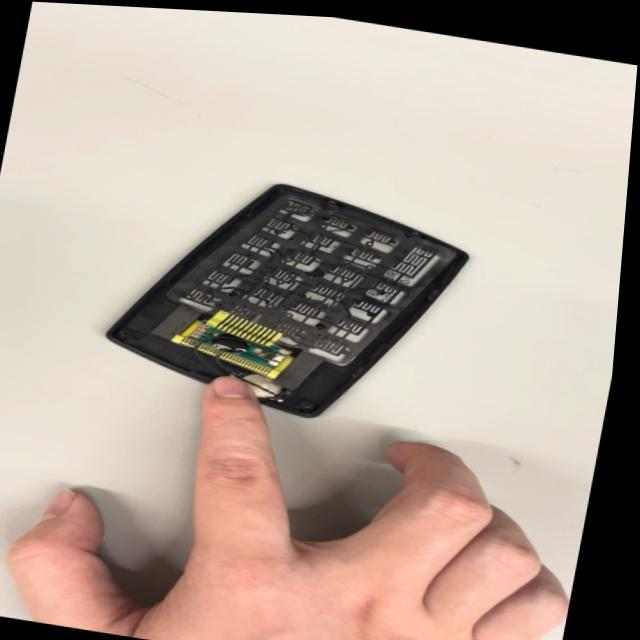front_panel: (93, 153, 479, 445)
